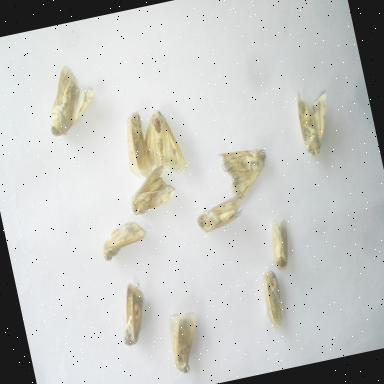abw: (34, 56, 106, 144), (130, 102, 196, 190), (210, 138, 278, 207), (288, 82, 343, 164), (119, 157, 184, 224), (112, 102, 159, 187), (108, 274, 158, 351), (162, 304, 210, 381), (189, 187, 252, 240), (253, 264, 295, 340), (93, 214, 153, 266), (258, 212, 302, 280)
